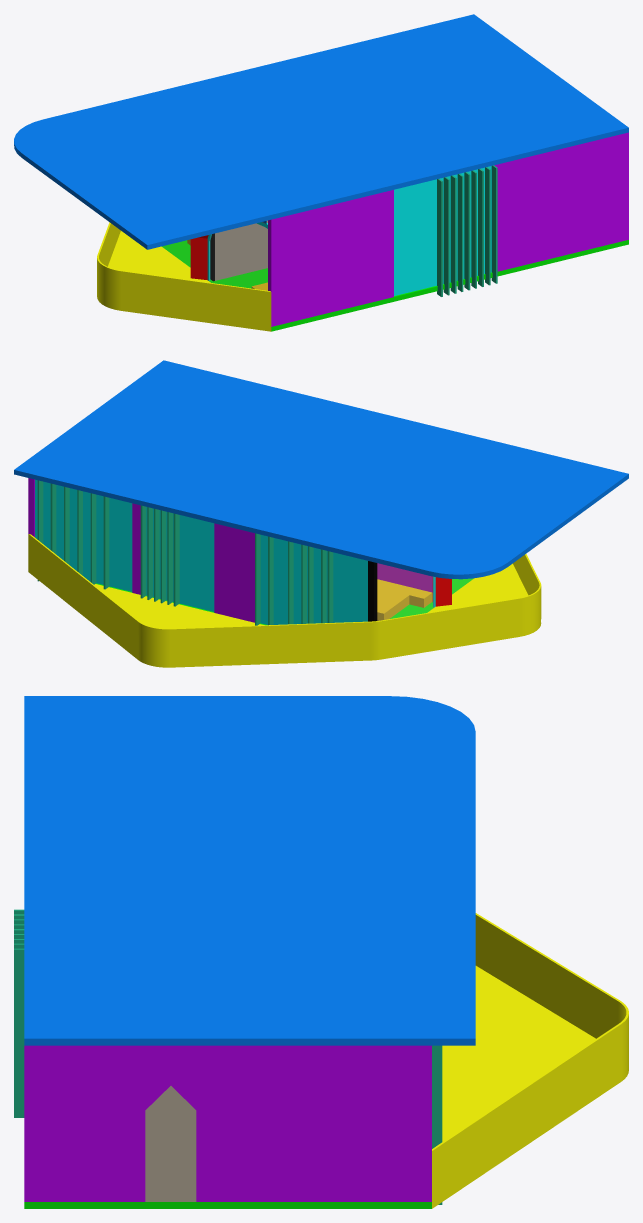
The model's file is ROOM6.glb.
3 renders of one model, top to bottom at view 1: azimuth 30°, elevation 25°; view 2: azimuth 150°, elevation 25°; view 3: azimuth 270°, elevation 25°, orthographic. The views are drawn at different scales.
Visible parts, largest first — view 1: top slabs, external walls, glasses, balconies, FINS, floors, internal walls, columns; view 2: top slabs, balconies, glasses, FINS, external walls, furniture, internal walls, floors, object 17, columns; view 3: top slabs, external walls, balconies, DOORS, FINS, floors.
Part boxes in pixels (x1=…): top slabs: x1=14, y1=14, x2=628, y2=249; external walls: x1=268, y1=132, x2=628, y2=326; glasses: x1=162, y1=166, x2=491, y2=295; balconies: x1=97, y1=222, x2=271, y2=331; FINS: x1=437, y1=165, x2=497, y2=296; floors: x1=161, y1=240, x2=628, y2=331; internal walls: x1=215, y1=220, x2=267, y2=280; columns: x1=190, y1=222, x2=262, y2=280; top slabs: x1=14, y1=360, x2=628, y2=579; balconies: x1=28, y1=534, x2=541, y2=667; glasses: x1=35, y1=479, x2=472, y2=624; FINS: x1=37, y1=480, x2=333, y2=625; external walls: x1=28, y1=478, x2=254, y2=622; furniture: x1=377, y1=579, x2=432, y2=620; internal walls: x1=377, y1=563, x2=432, y2=592; floors: x1=95, y1=578, x2=473, y2=625; object 17: x1=368, y1=561, x2=377, y2=621; columns: x1=432, y1=577, x2=451, y2=606; top slabs: x1=24, y1=696, x2=475, y2=1045; external walls: x1=24, y1=1045, x2=431, y2=1201; balconies: x1=432, y1=913, x2=628, y2=1208; DOORS: x1=145, y1=1086, x2=196, y2=1201; FINS: x1=14, y1=909, x2=442, y2=1204; floors: x1=24, y1=1202, x2=431, y2=1208.
Bounding box in the file's own units: 15.89 × 3.8 × 12.06.
